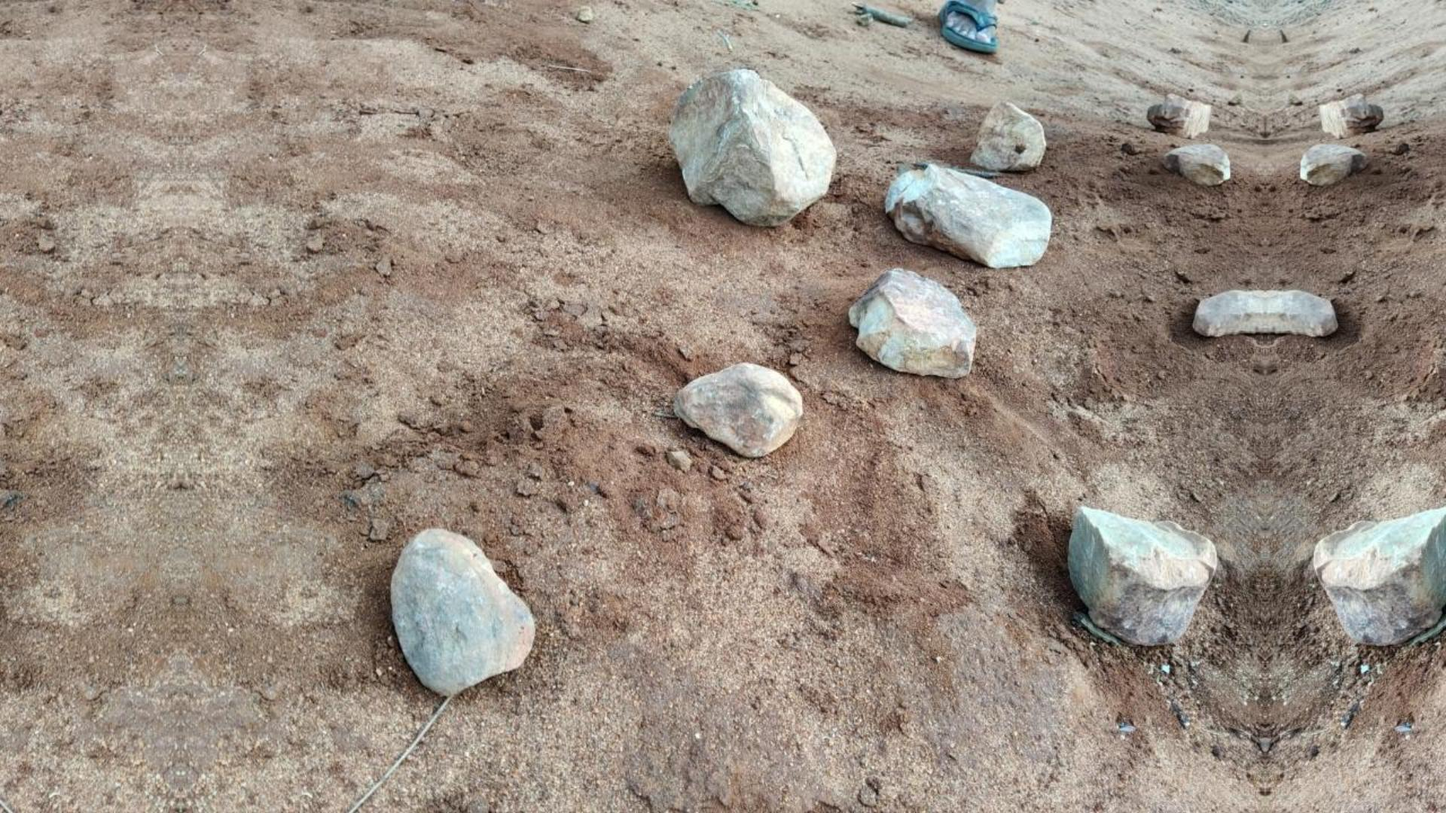rock: (669, 68, 835, 226), (391, 528, 534, 696), (1069, 506, 1217, 645), (1313, 507, 1445, 645), (885, 164, 1051, 266), (848, 268, 975, 377), (673, 362, 802, 457), (970, 102, 1045, 171), (1265, 290, 1336, 335), (1193, 290, 1262, 335), (1300, 143, 1369, 185), (1161, 143, 1229, 185), (1147, 95, 1211, 137), (1318, 96, 1383, 137)
